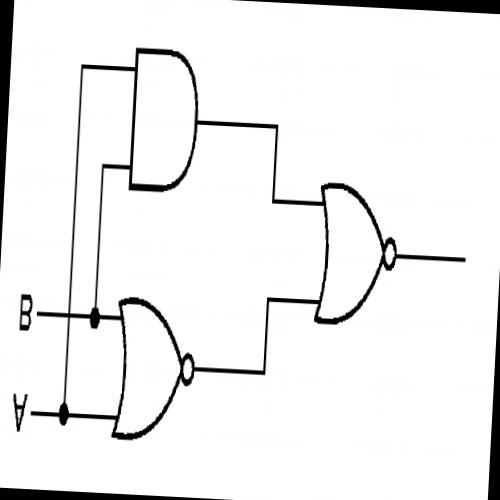and: (122, 38, 206, 206)
nor: (104, 281, 203, 455), (308, 172, 402, 337)
